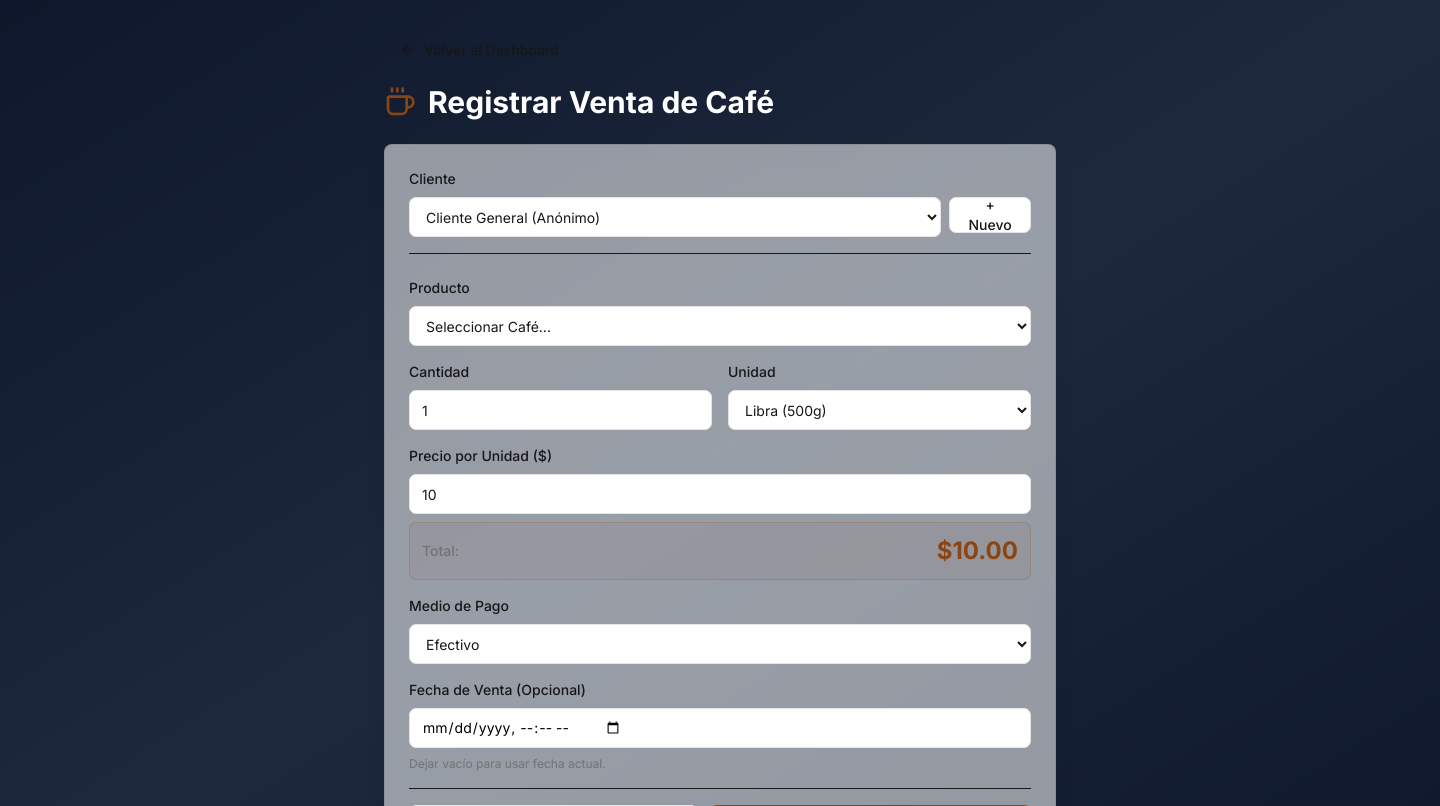
Test: NuevaVentaPage › Price Section › should update total when price changes
This screenshot has width=1440, height=806.
Replace the text in the number field labelled "Precio por Unidad ($)" with "15". click: (720, 494)
box: [409,474,1031,514]
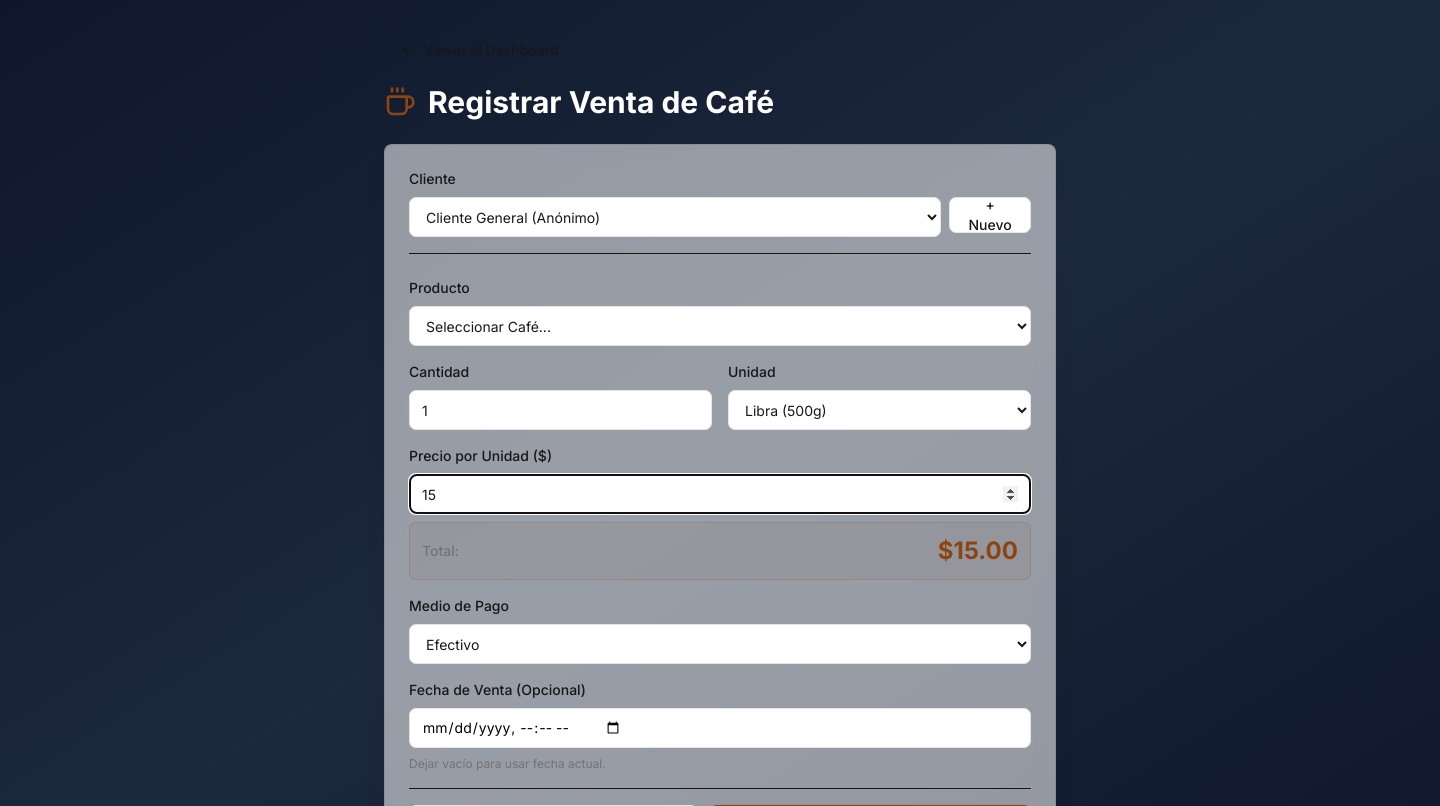
Expected: the text "$15.00" is shown, [938,535,1018,567]
